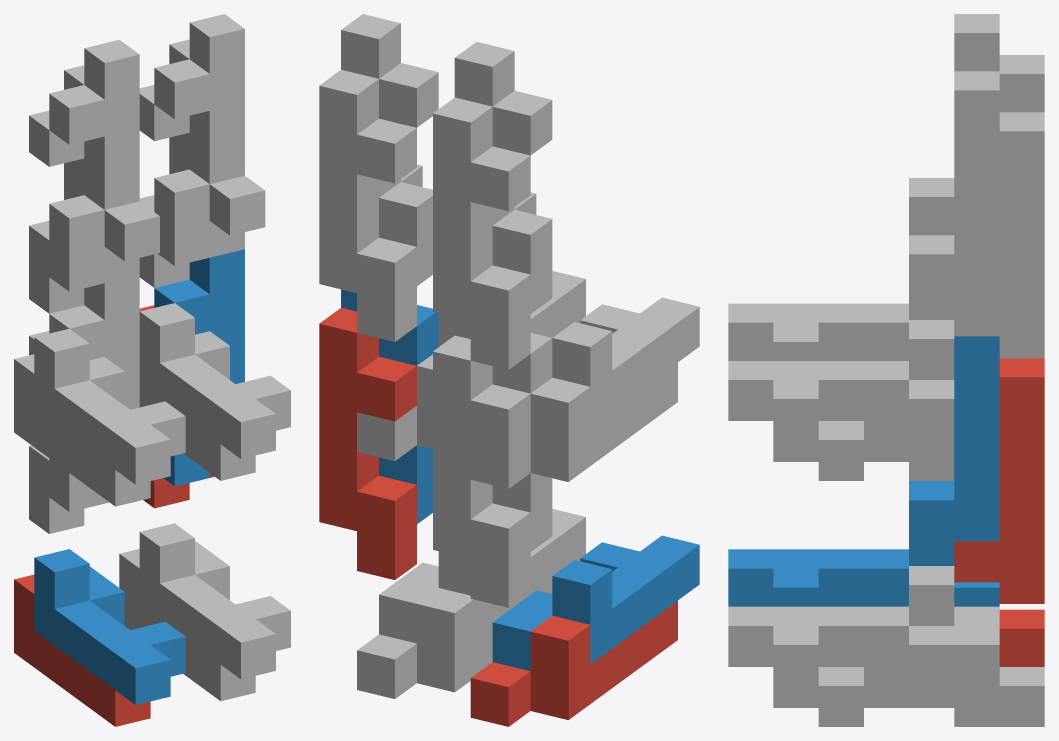
The model's file is tiling.obj.
3 renders of one model, left to right at view 1: azimuth 30°, elevation 25°; view 2: azimuth 150°, elevation 25°; view 3: azimuth 270°, elevation 25°, orthographic. The views are drawn at different scales.
Visible parts, largest first — view 1: copy_2_domain_4, copy_2_domain_8, copy_1_domain_2, copy_1_domain_6, copy_1_domain_4, copy_1_domain_8, copy_2_domain_2, copy_2_domain_6, copy_2_domain_3, copy_1_domain_3, copy_1_domain_1, copy_2_domain_7 (+4 smaller); view 2: copy_2_domain_3, copy_2_domain_7, copy_2_domain_1, copy_2_domain_5, copy_1_domain_2, copy_1_domain_1, copy_1_domain_3, copy_2_domain_4, copy_1_domain_4, copy_2_domain_8, copy_1_domain_5, copy_1_domain_6 (+4 smaller); view 3: copy_1_domain_6, copy_1_domain_8, copy_2_domain_7, copy_2_domain_5, copy_2_domain_8, copy_1_domain_2, copy_2_domain_6, copy_1_domain_5, copy_1_domain_4, copy_1_domain_7, copy_2_domain_4, copy_1_domain_1 (+2 smaller).
Boxes of the visible parts, x1,y1,x2,y2 form: copy_2_domain_4: [49, 39, 159, 291]; copy_2_domain_8: [154, 14, 265, 265]; copy_1_domain_2: [34, 549, 185, 704]; copy_1_domain_6: [139, 523, 290, 679]; copy_1_domain_4: [34, 328, 185, 484]; copy_1_domain_8: [139, 303, 290, 458]; copy_2_domain_2: [49, 275, 139, 512]; copy_2_domain_6: [154, 249, 244, 486]; copy_2_domain_3: [29, 65, 139, 313]; copy_1_domain_3: [14, 354, 150, 506]; copy_1_domain_1: [14, 574, 150, 726]; copy_2_domain_7: [139, 39, 244, 287]; copy_2_domain_3: [433, 97, 530, 369]; copy_2_domain_7: [319, 69, 416, 341]; copy_2_domain_1: [433, 335, 530, 607]; copy_2_domain_5: [319, 307, 416, 579]; copy_1_domain_2: [492, 535, 699, 671]; copy_1_domain_1: [470, 600, 677, 726]; copy_1_domain_3: [470, 362, 677, 488]; copy_2_domain_4: [454, 42, 552, 313]; copy_1_domain_4: [552, 297, 699, 426]; copy_2_domain_8: [341, 14, 438, 285]; copy_1_domain_5: [357, 582, 552, 698]; copy_1_domain_6: [379, 509, 585, 643]; copy_1_domain_6: [728, 566, 999, 685]; copy_1_domain_8: [728, 320, 954, 439]; copy_2_domain_7: [954, 112, 1044, 358]; copy_2_domain_5: [954, 358, 1044, 603]; copy_2_domain_8: [909, 71, 999, 295]; copy_1_domain_2: [728, 541, 999, 606]; copy_2_domain_6: [909, 336, 999, 541]; copy_1_domain_5: [773, 606, 1044, 726]; copy_1_domain_4: [728, 295, 954, 360]; copy_1_domain_7: [773, 421, 954, 480]; copy_2_domain_4: [909, 14, 999, 235]; copy_1_domain_1: [999, 609, 1044, 666].
Size of the model in its own units: 6 by 16 by 7.
